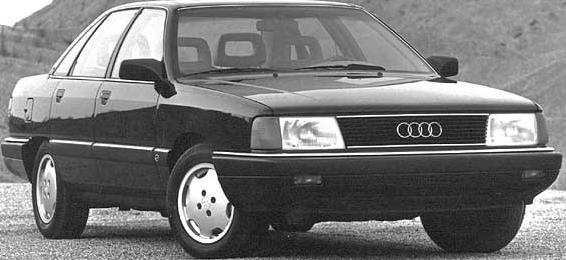front_view: (220, 91, 560, 222)
headlight: (239, 106, 349, 155)
side_glass: (54, 7, 167, 85)
